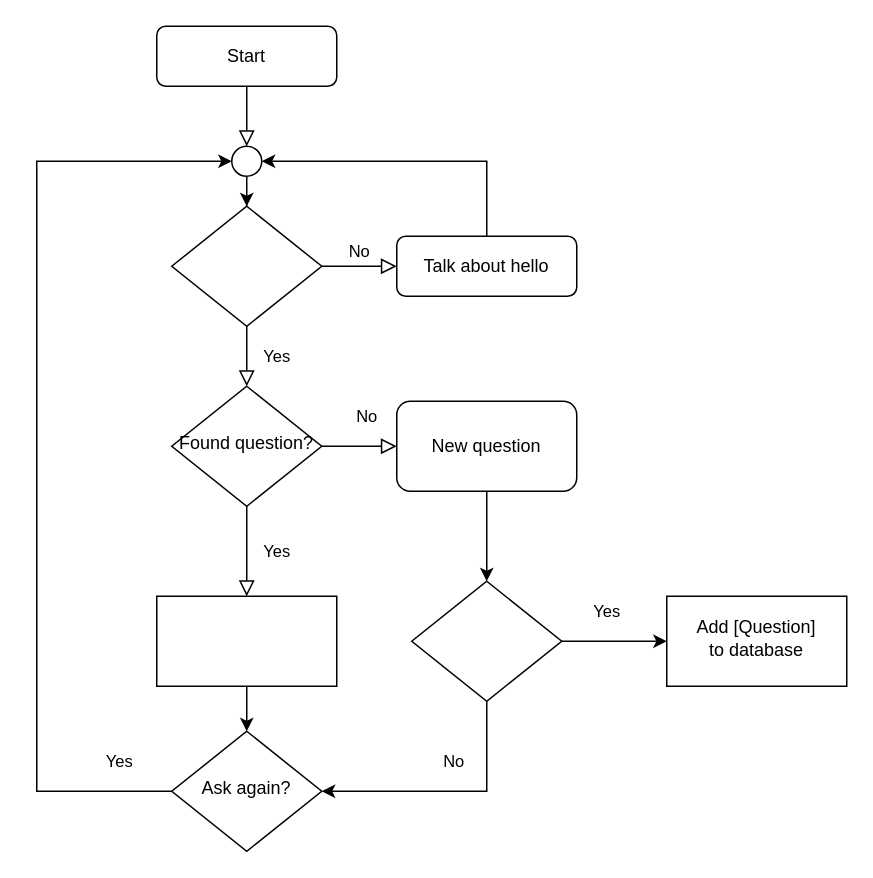
The diagram is 873 pixels wide and 878 high, and some of its shapes have lost their labels. Here are the shapes that lost their labels. From the top down, the centre of each, then its label:
the point at 246,265: Ask question?
the point at 246,640: Chatbot : [Answer]
the point at 486,640: Confirm
